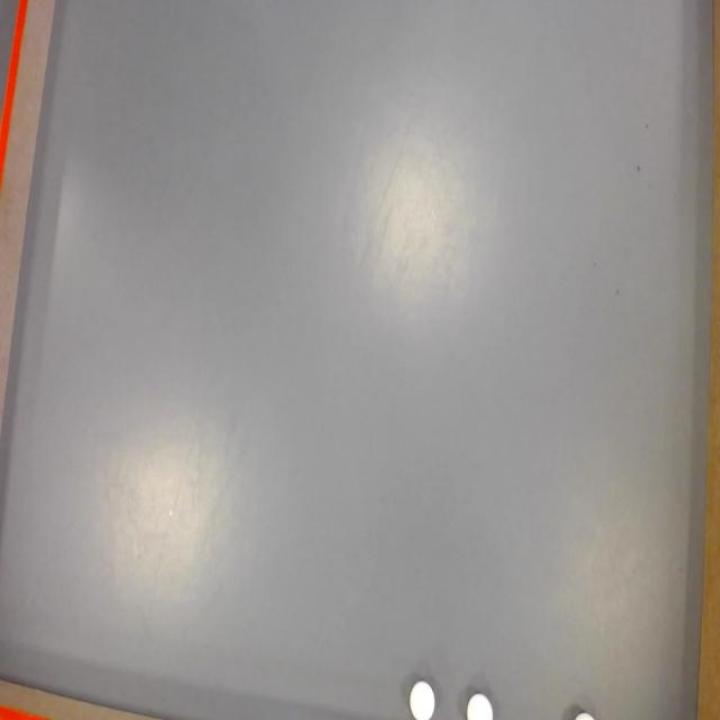white: (409, 679, 435, 720), (467, 692, 493, 720)
